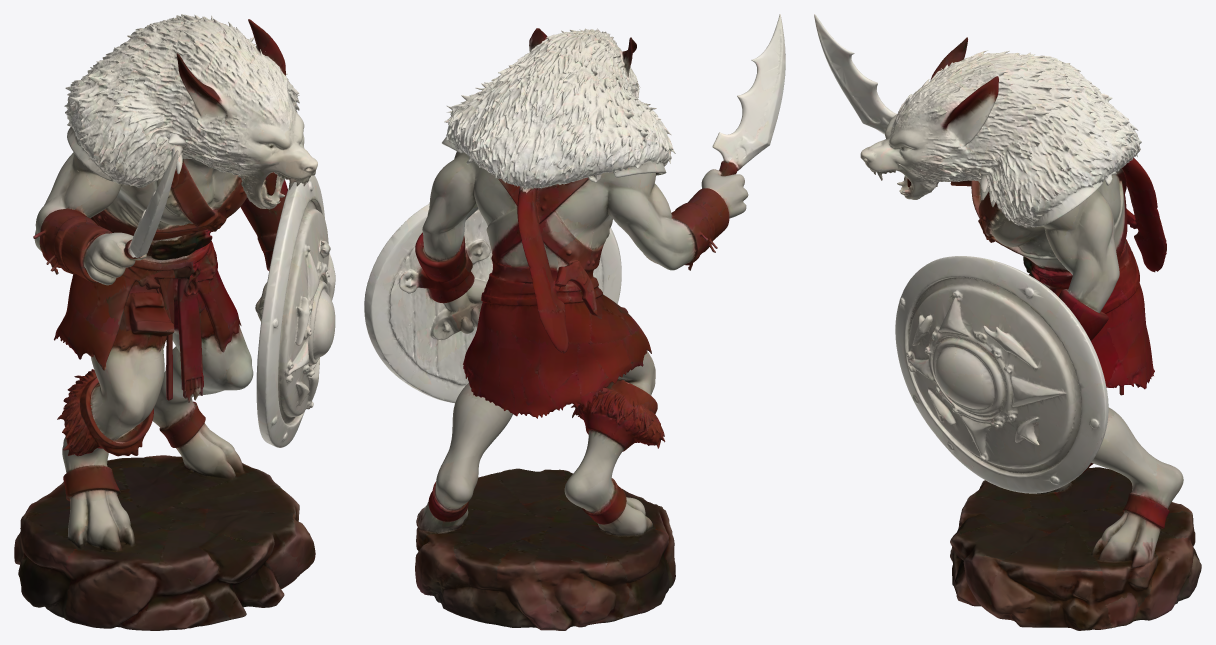
File: chibi-mushroom-warrior.glb
The picture shows the model from 3 angles, left to right: view 1: azimuth 30°, elevation 25°; view 2: azimuth 150°, elevation 25°; view 3: azimuth 270°, elevation 25°; orthographic projection. The views are drawn at different scales.
Size of the model in its own units: 1.23 by 2 by 1.35.
Materials: 1 (1 with a texture image).
